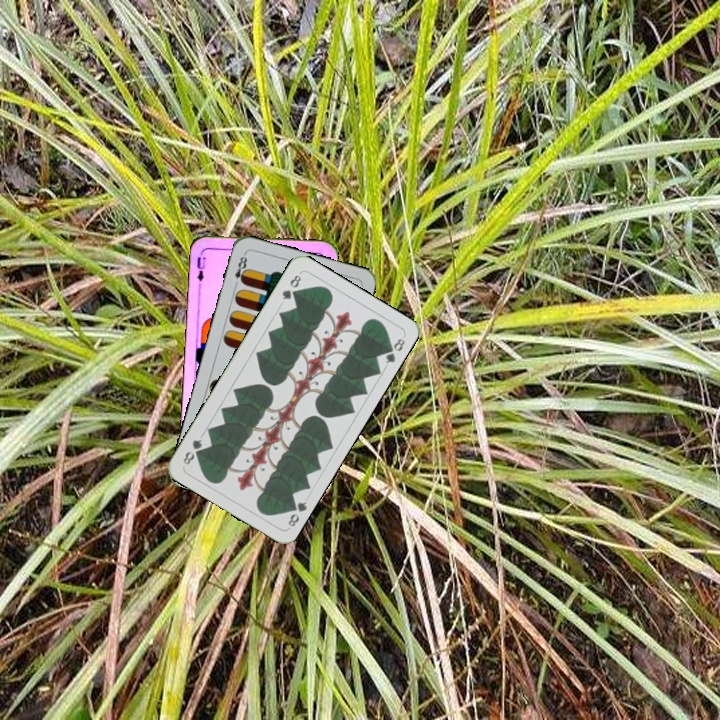E8: (230, 250, 250, 290)
EU: (193, 248, 208, 289)
G8: (284, 497, 310, 529), (278, 271, 304, 302)
